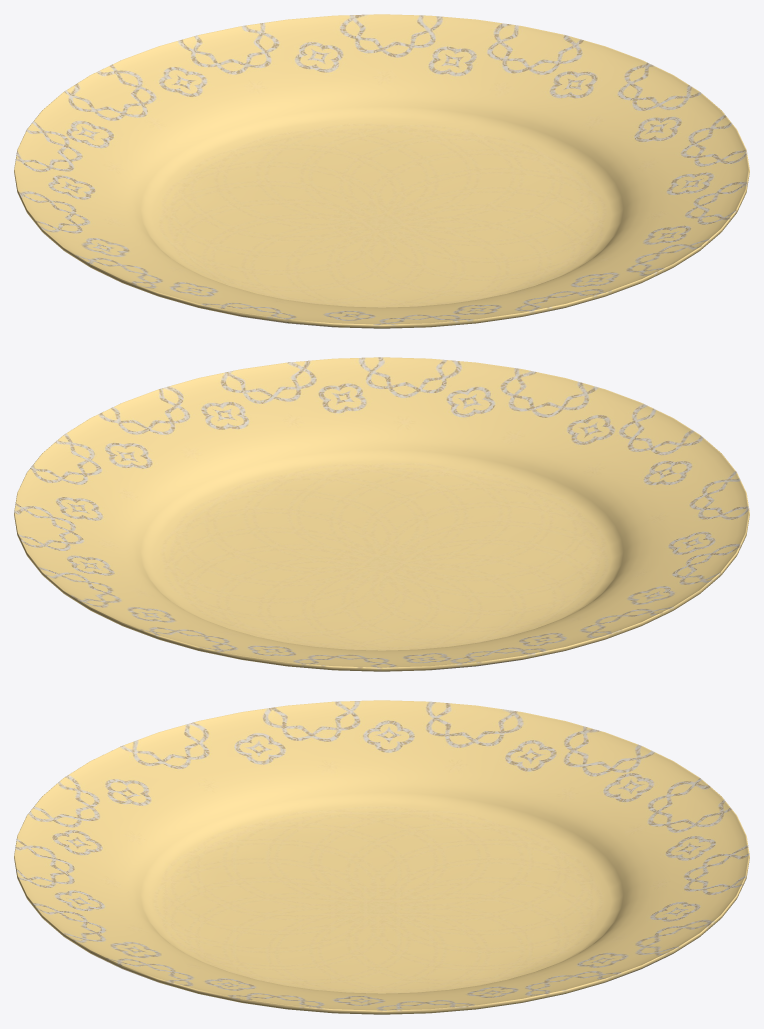
File: plate.glb
The picture shows the model from 3 angles, top to bottom: view 1: azimuth 30°, elevation 25°; view 2: azimuth 150°, elevation 25°; view 3: azimuth 270°, elevation 25°; orthographic projection.
Parts seen in each view (by area): view 1: Side_plate_; view 2: Side_plate_; view 3: Side_plate_.
Boxes of the visible parts, box(x1,y1,x2,y2) form: Side_plate_: box(14, 14, 749, 328); Side_plate_: box(14, 357, 749, 671); Side_plate_: box(14, 700, 749, 1014).
Bounding box in the file's own units: 20 × 1.83 × 20.
1 material, 1 textured.
